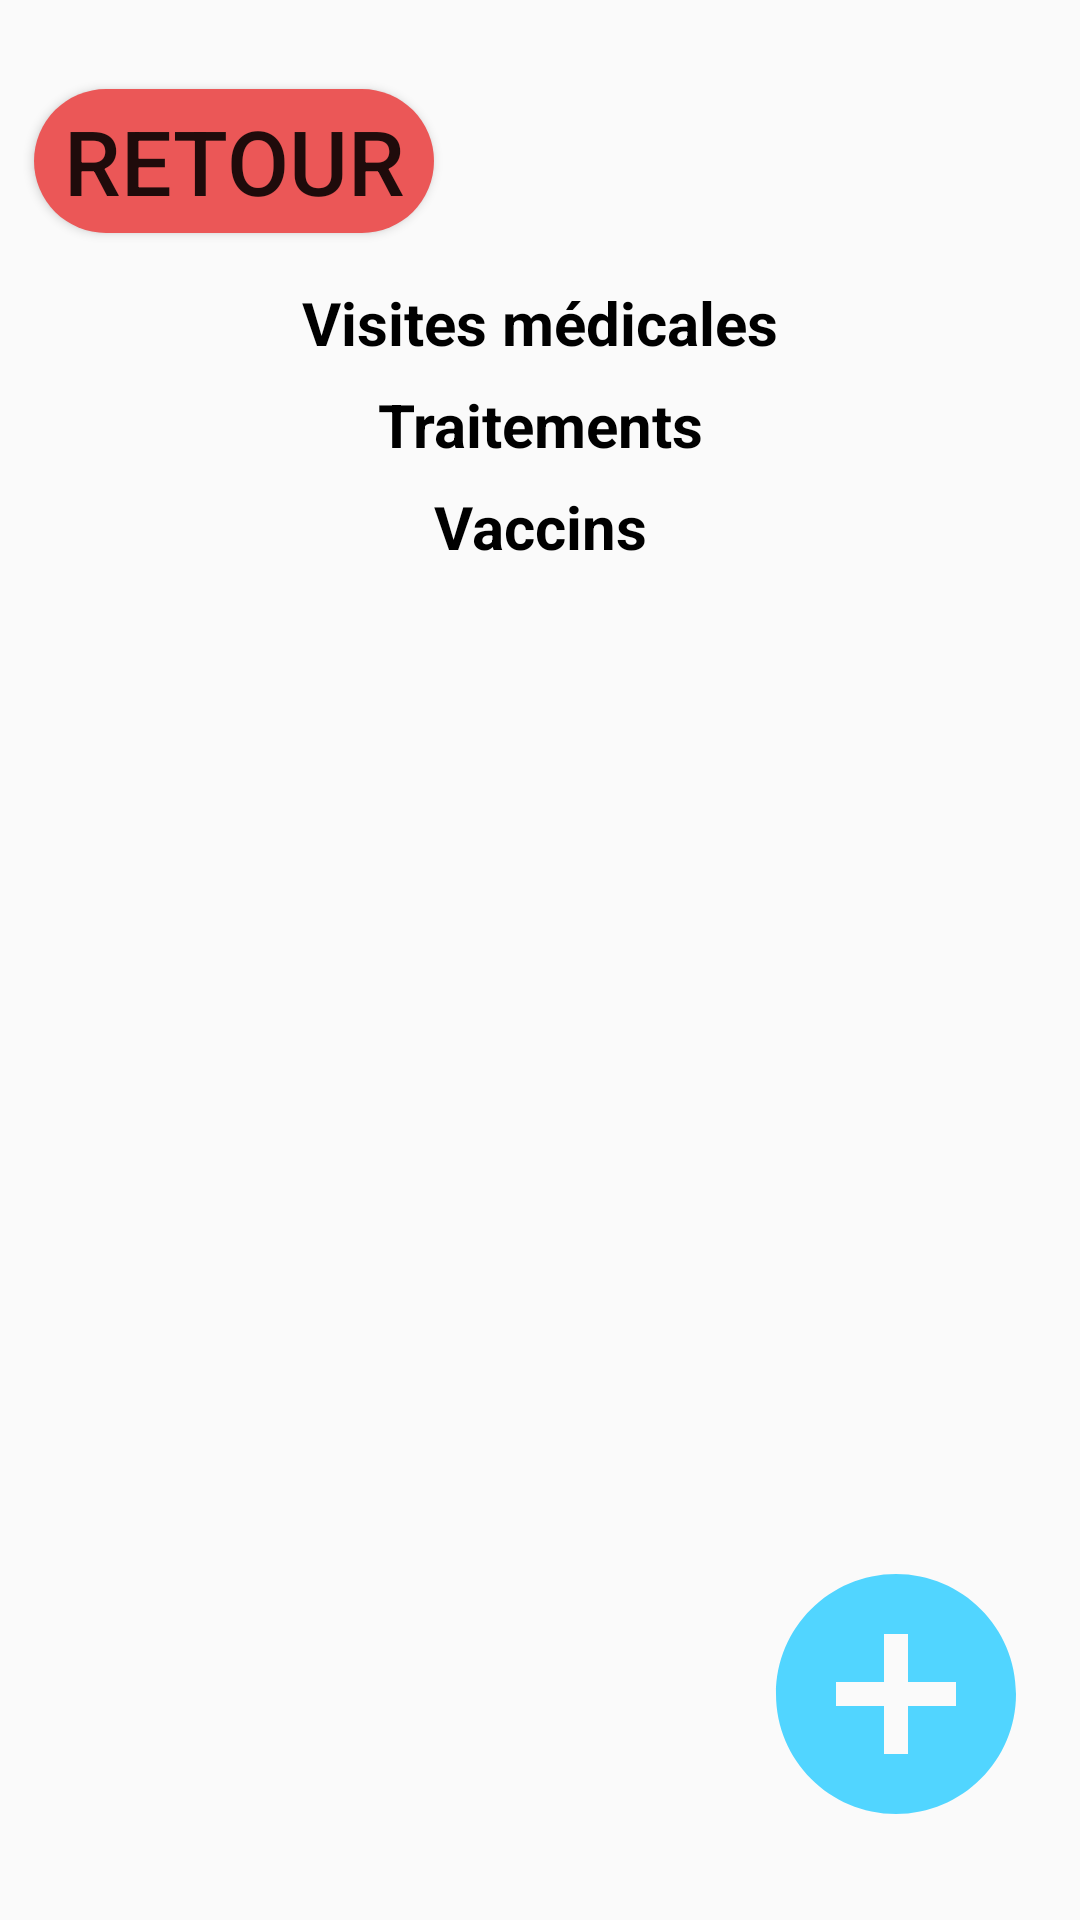

Screen size 1080px×1920px. Icon name, then its center in pixels as point (x, y):
plus: point (896, 1694)
